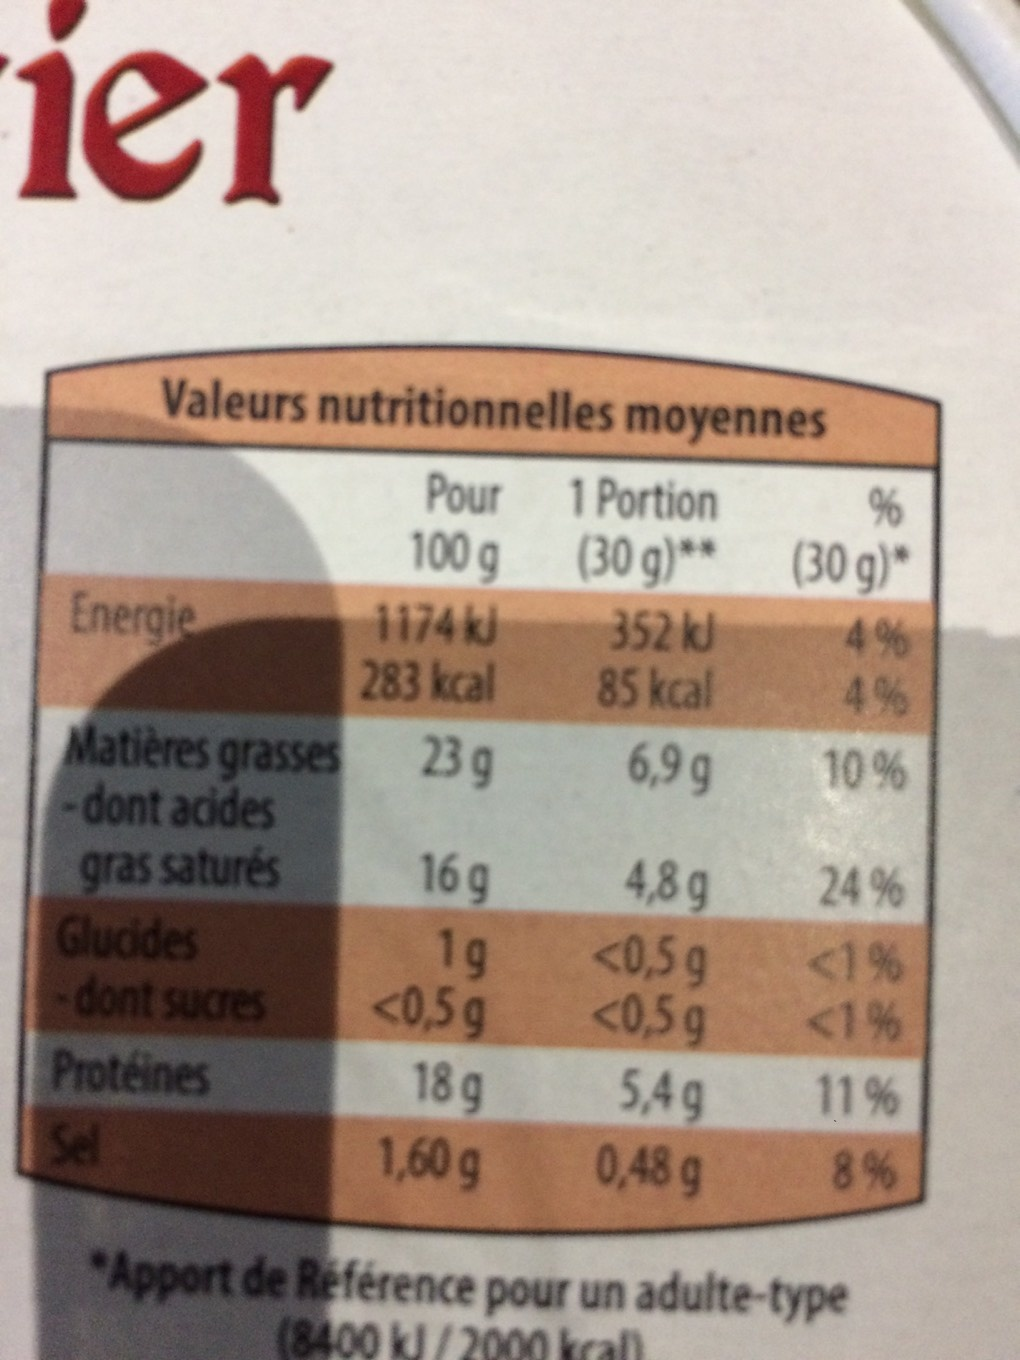column: (57, 445, 348, 1244), (552, 440, 722, 1244), (355, 443, 509, 1244), (787, 445, 915, 1243)
table: (14, 320, 954, 1244)
